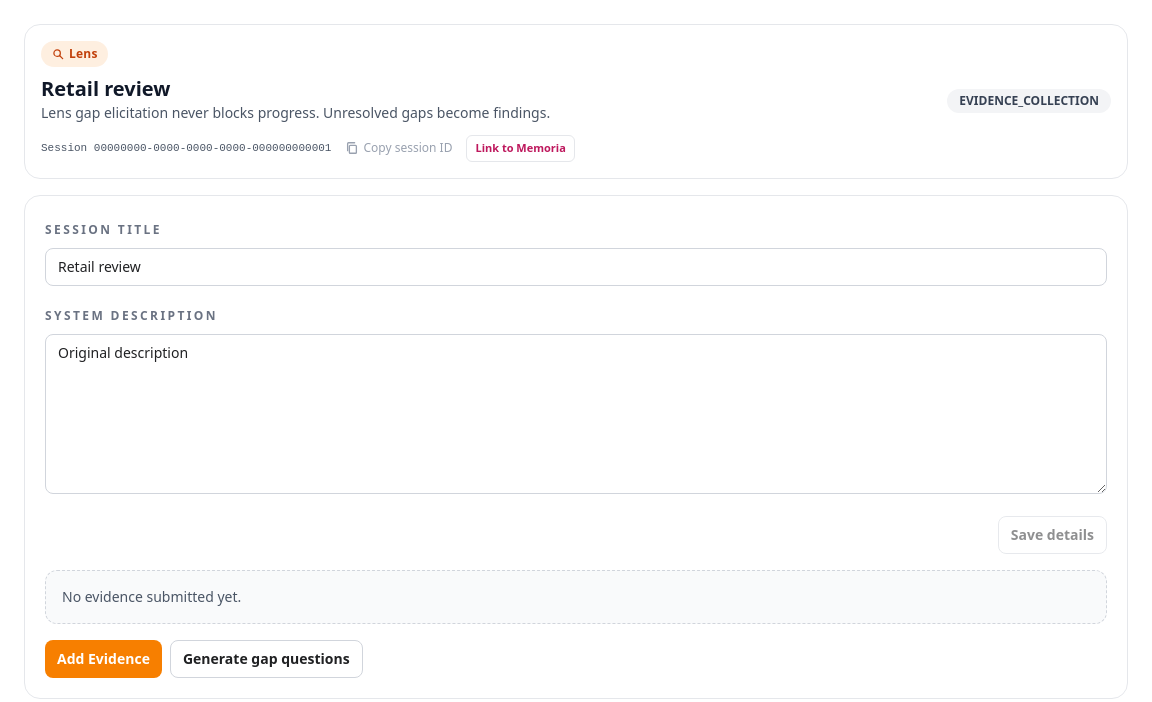
Test case: LensReviewPage actions › saves the title and system description through the API
Replace the text in the text box showing "Original description" with "Updated system description". click: (576, 414)
box: [45, 334, 1107, 494]
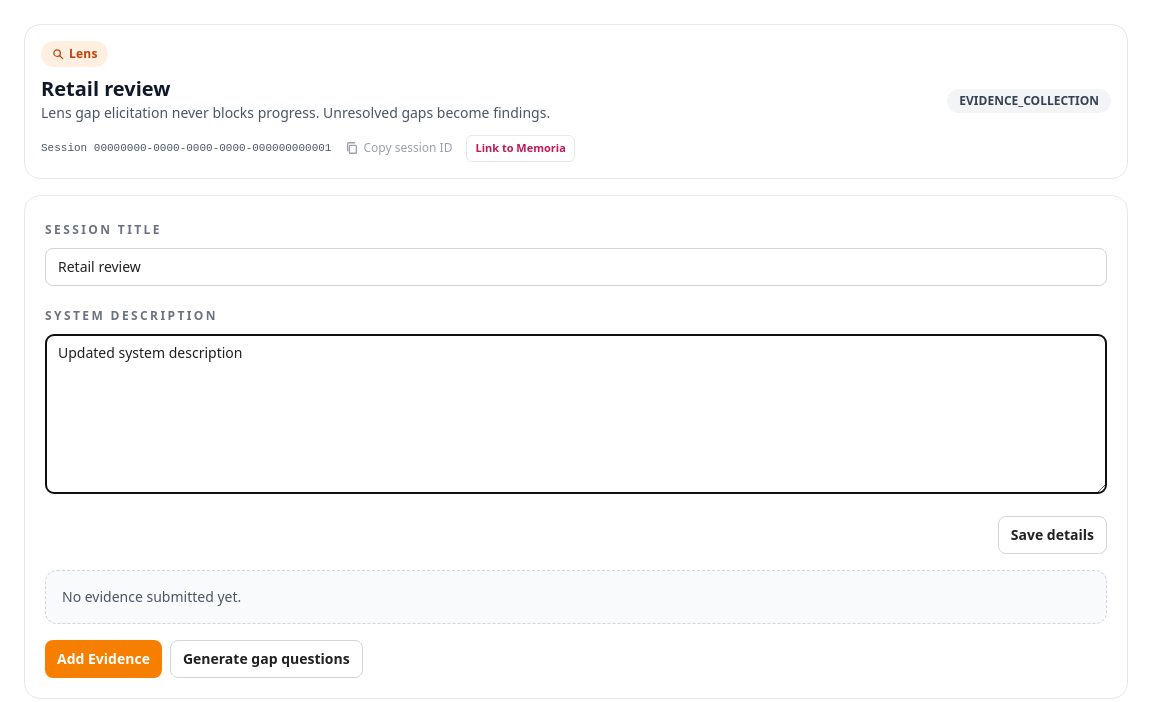
Click the button "Save details". click: (1052, 534)
box: [998, 516, 1107, 554]
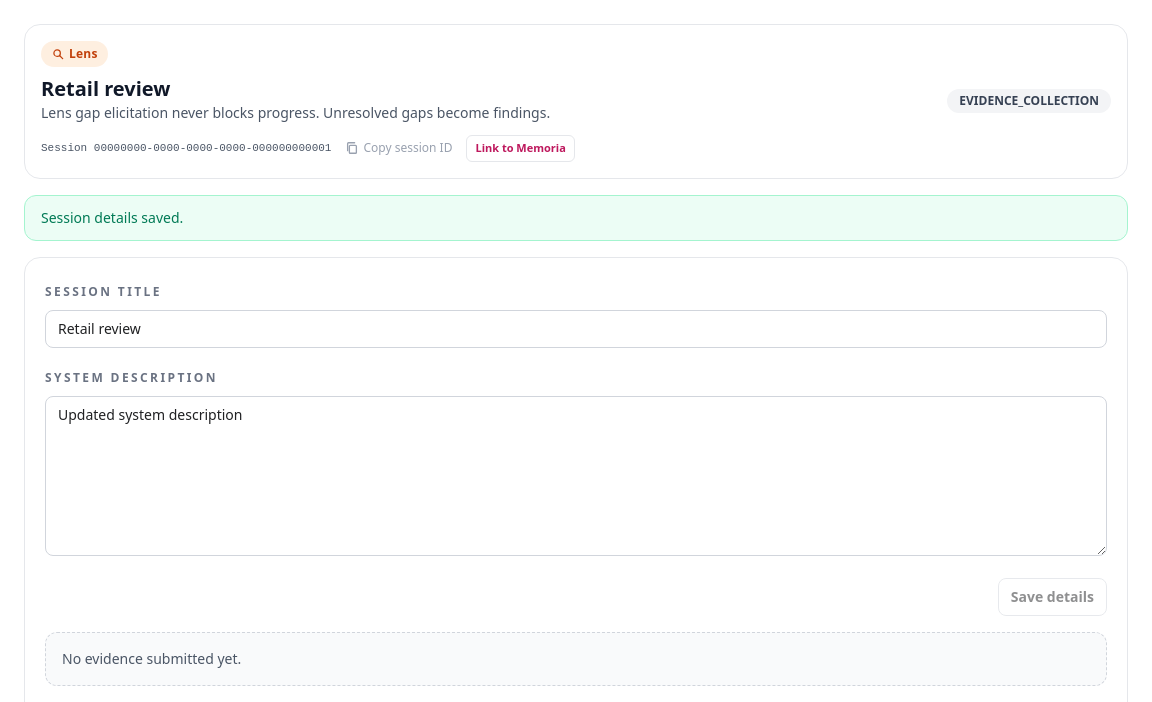
Now the text "Session details saved." is shown, box [24, 194, 1128, 240]
